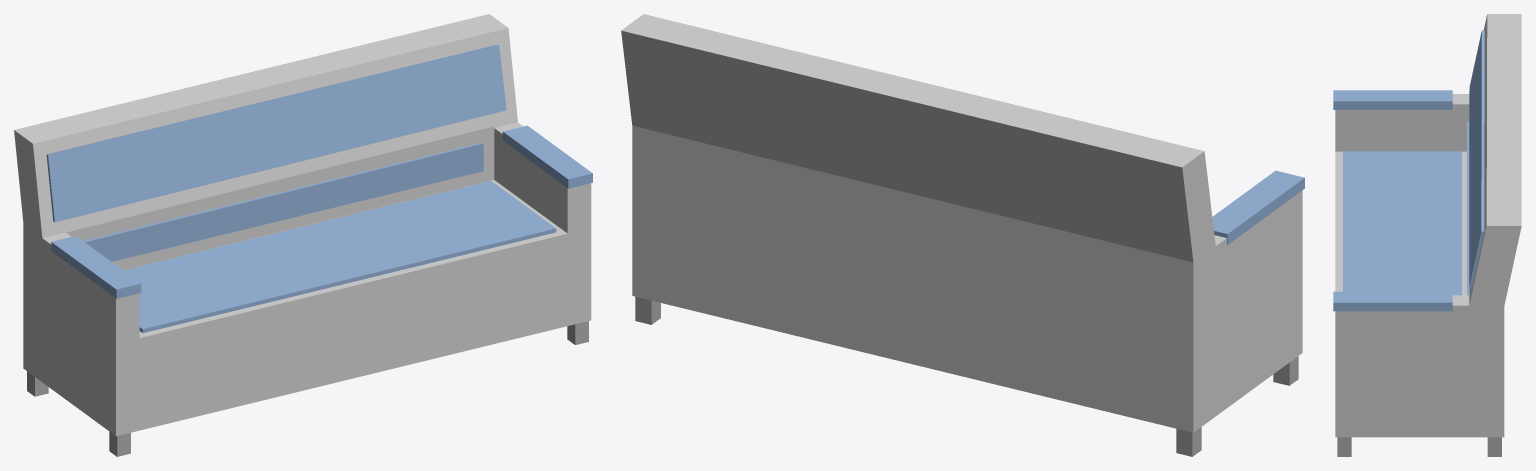
File: sofa2.fbx
3 views of the same model, side by side, from view 1: azimuth 30°, elevation 25°; view 2: azimuth 150°, elevation 25°; view 3: azimuth 270°, elevation 25° (orthographic). The views are drawn at different scales.
Parts seen in each view (by area): view 1: Cube_1; view 2: Cube_1; view 3: Cube_1.
Boxes of the visible parts, x1,y1,x2,y2 form: Cube_1: [14, 14, 592, 456]; Cube_1: [621, 14, 1304, 456]; Cube_1: [1333, 14, 1521, 456].
Bounding box in the file's own units: 75.69 × 38.52 × 28.4.
